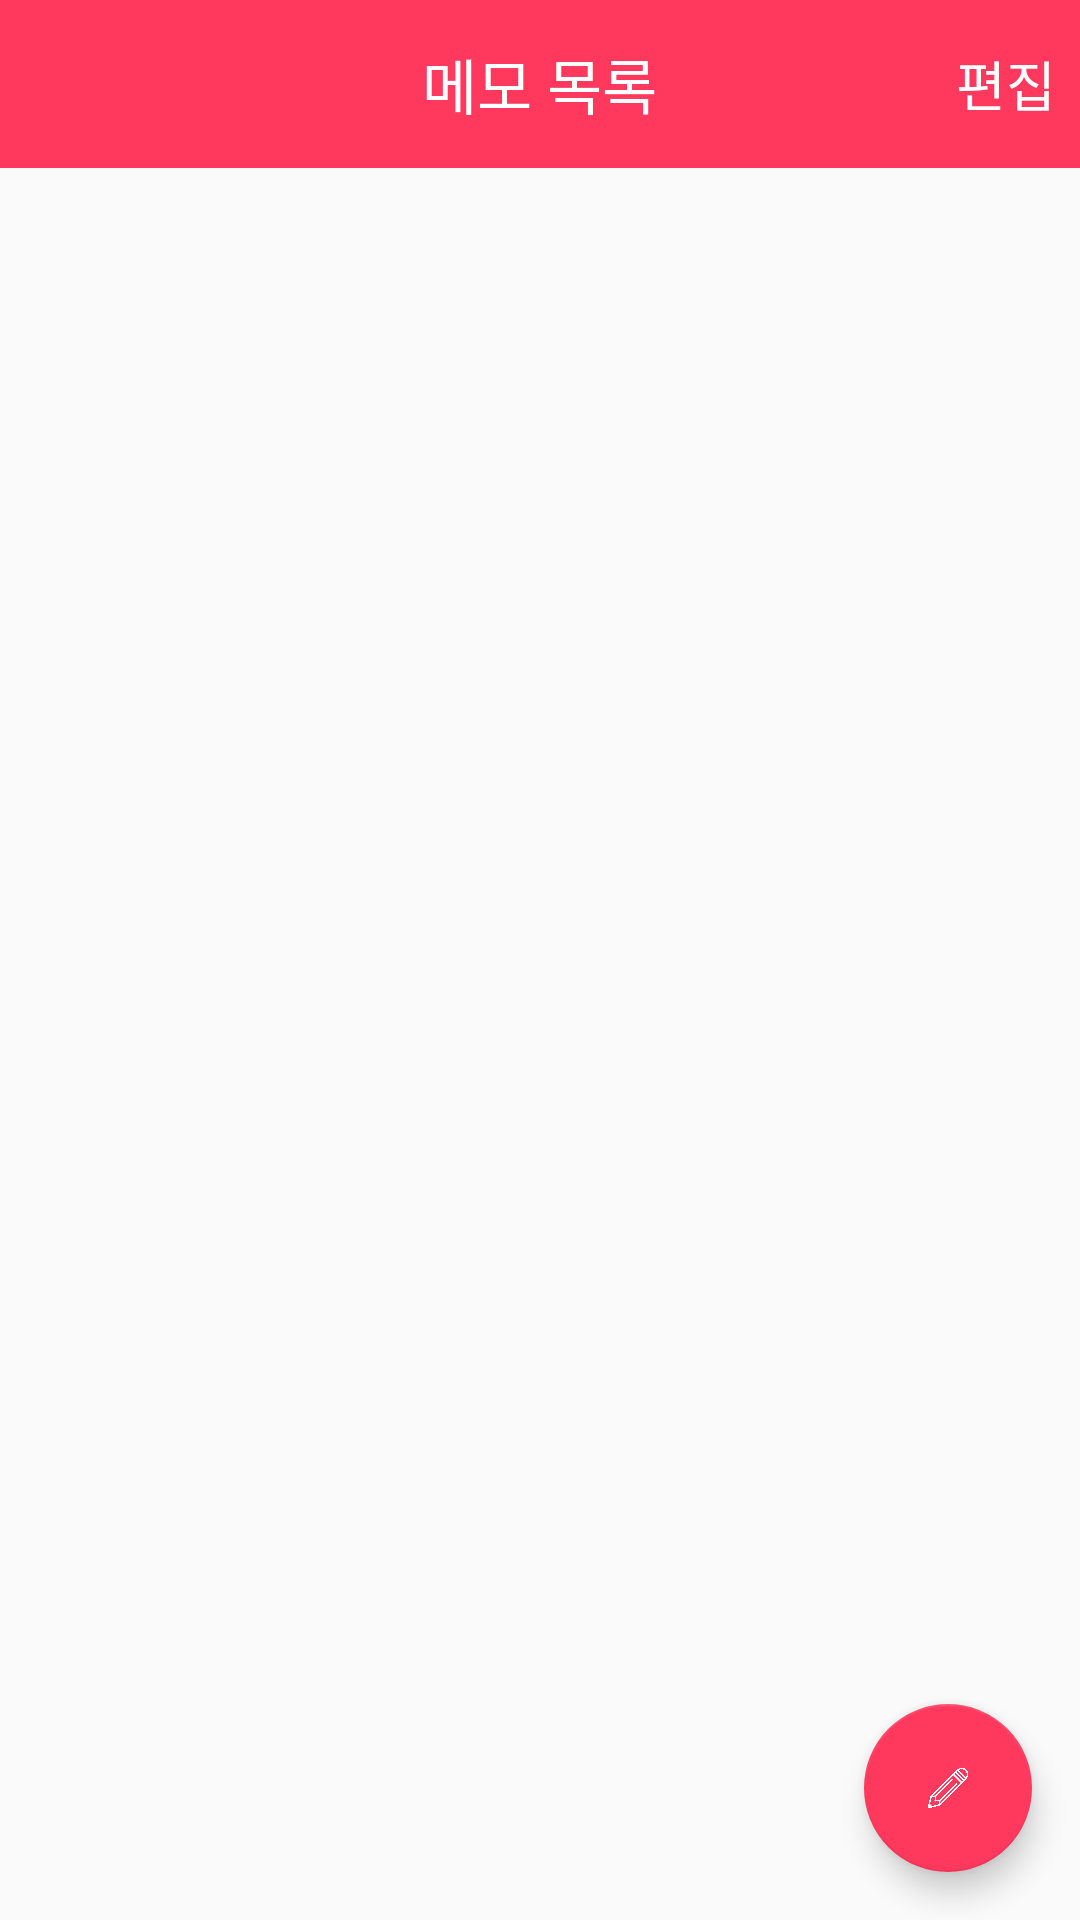

Named icons in this screenshot (1080px x 1920px) and their centers, [x,y]:
memo add: [948,1788]
